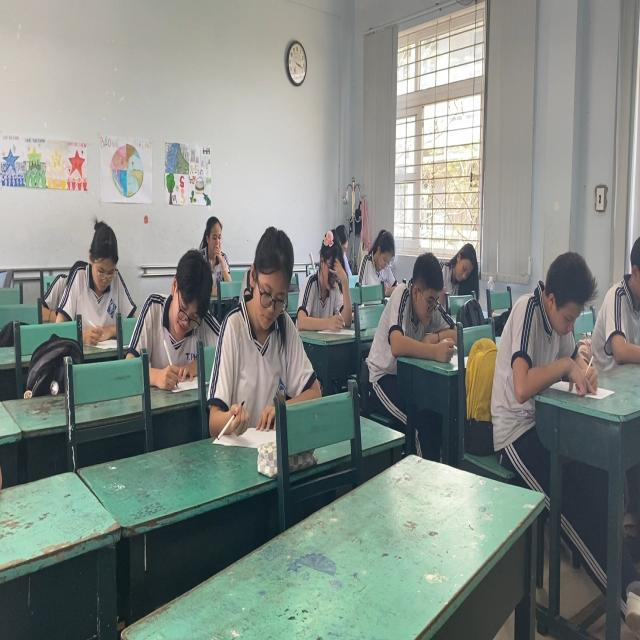not_cheating: (494, 245, 594, 403), (230, 223, 306, 410), (140, 248, 211, 400), (387, 258, 458, 358), (75, 213, 130, 327), (303, 220, 361, 317), (359, 227, 404, 296), (196, 210, 233, 286), (445, 238, 476, 296)
